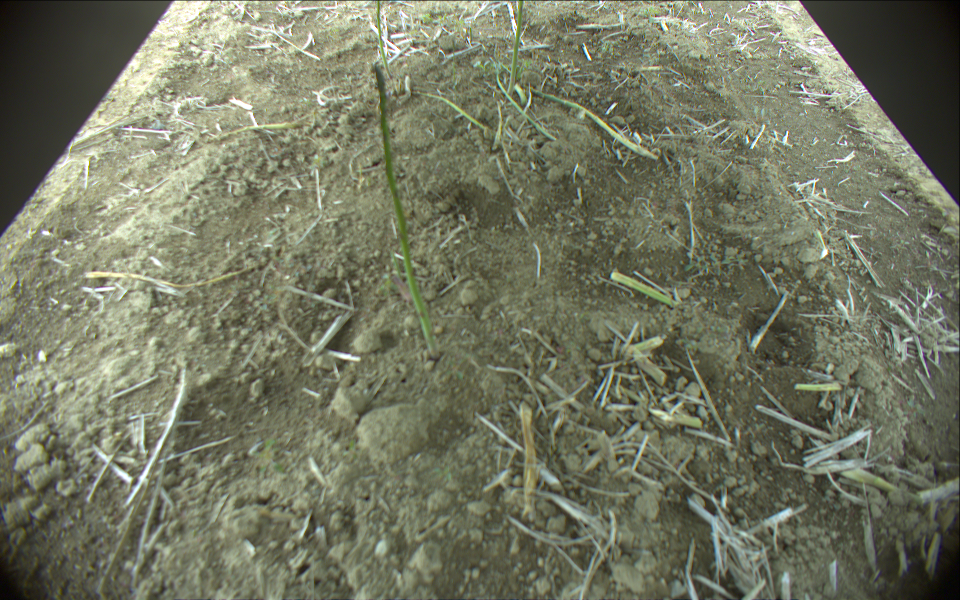aspa: (368, 62, 442, 360), (523, 84, 661, 162), (495, 60, 560, 142), (407, 87, 488, 132), (610, 269, 675, 305), (508, 1, 526, 95), (373, 1, 396, 74)
